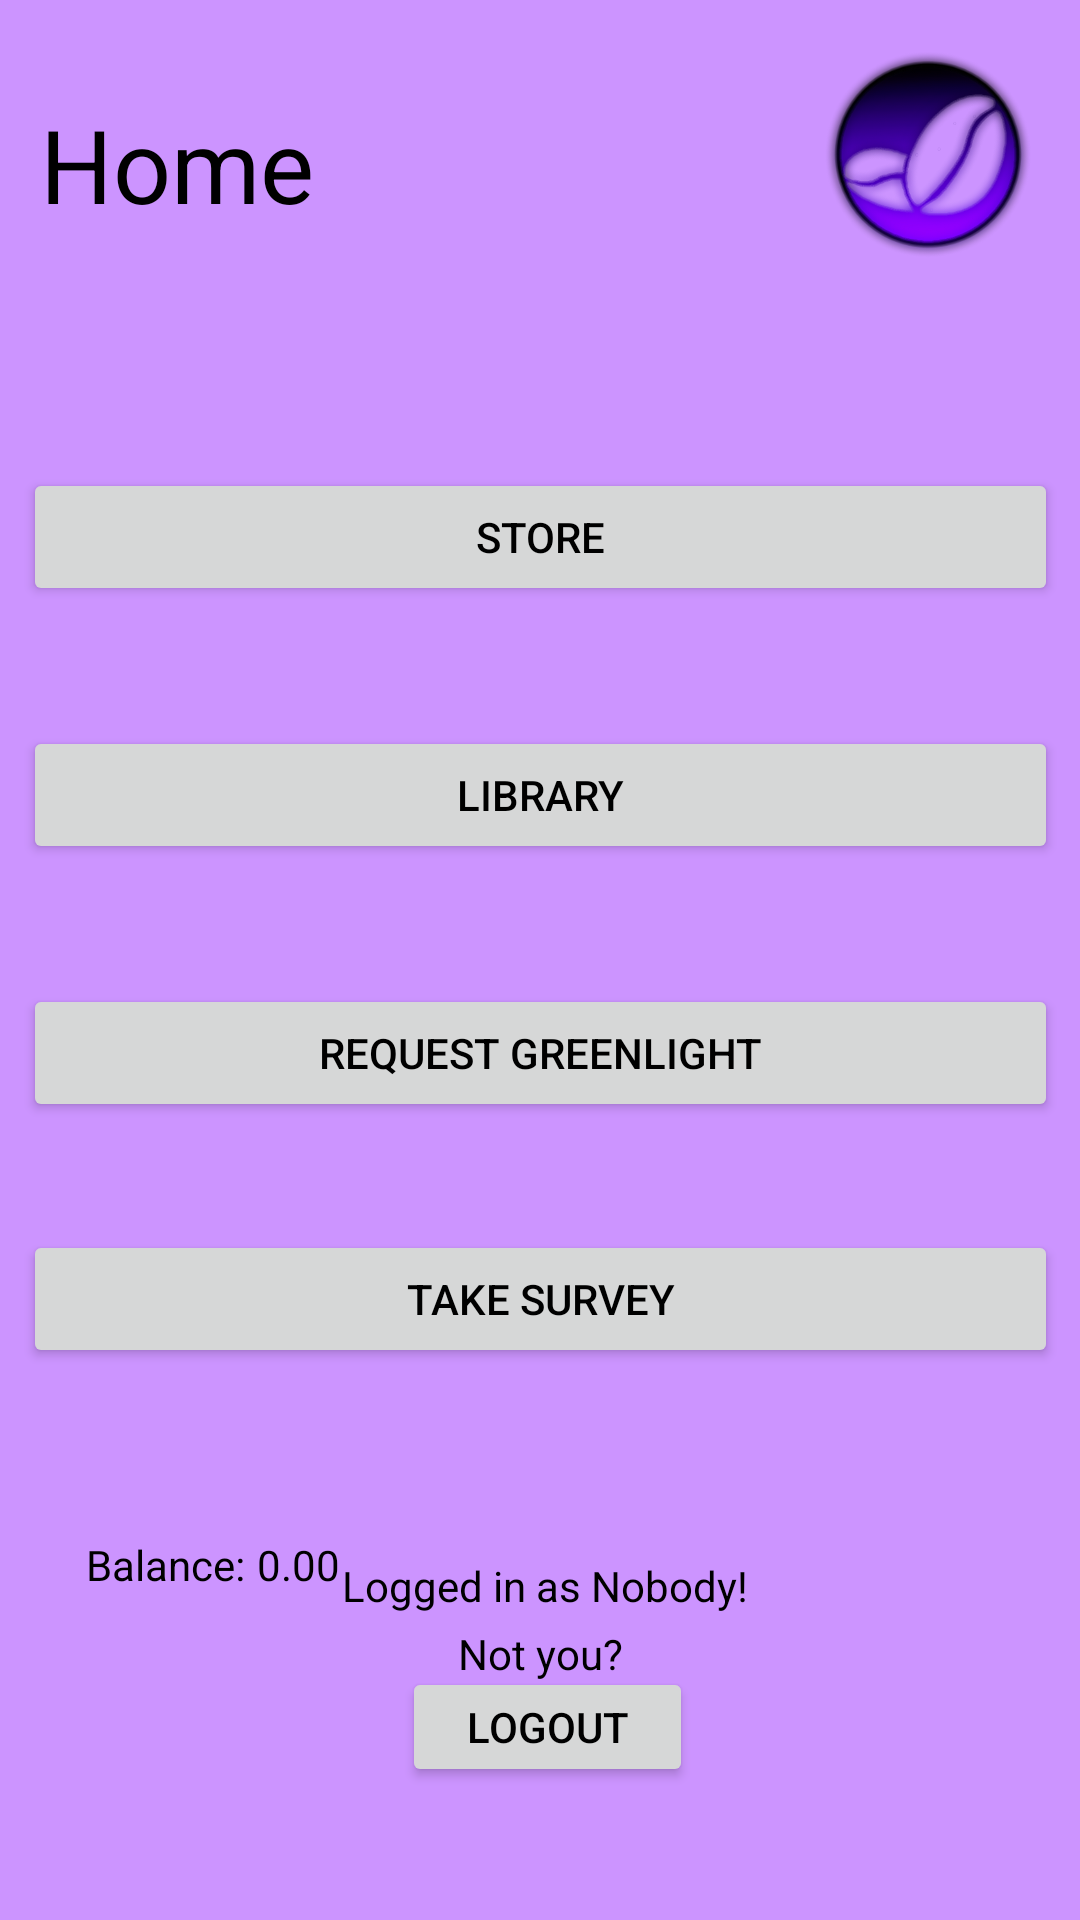

Icon click points for this 1080×1920 phone screenshot, format [x,y]:
beanpowered: [928,154]
